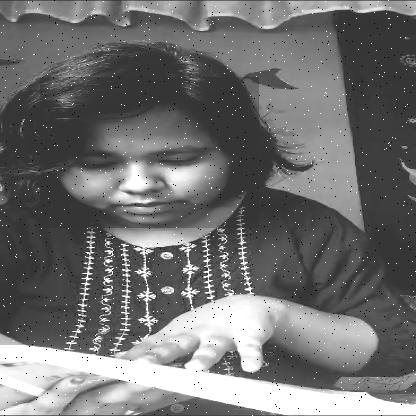Normal: (40, 77, 259, 228)
